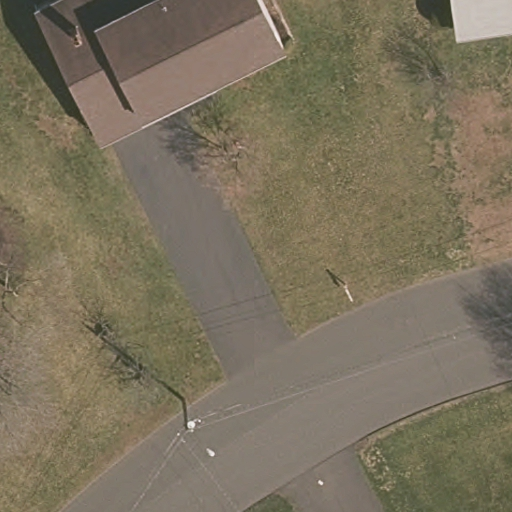DT: (176, 418, 204, 439)
